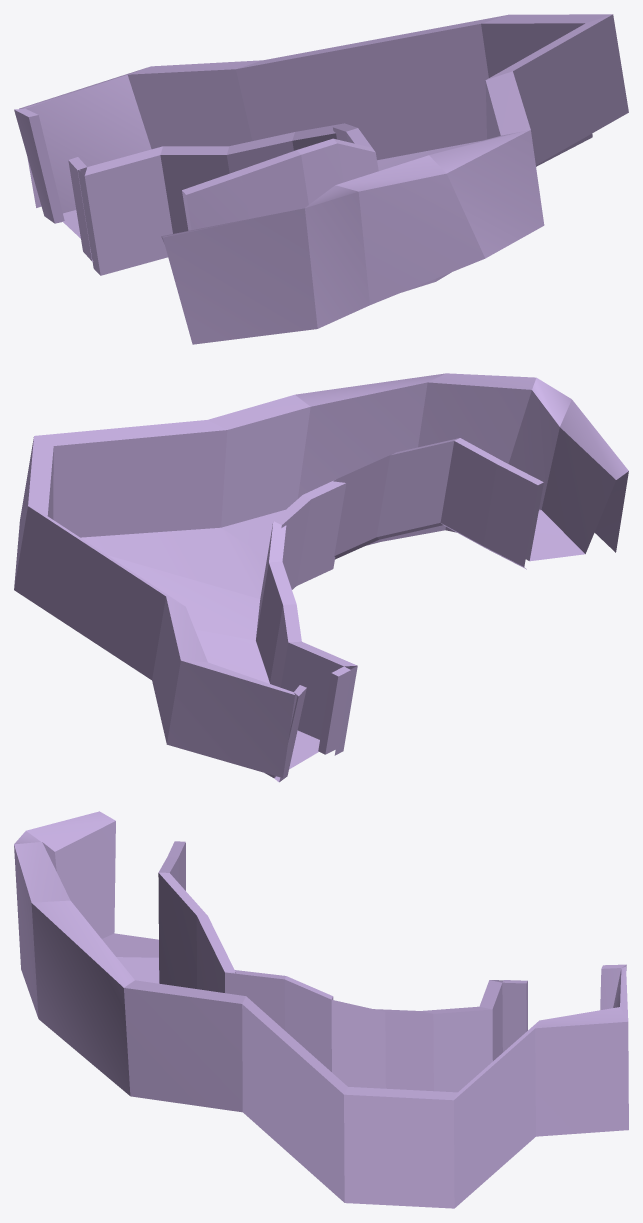
Rendered from InsideRamp.fbx.
The picture shows the model from 3 angles, top to bottom: view 1: azimuth 30°, elevation 25°; view 2: azimuth 150°, elevation 25°; view 3: azimuth 270°, elevation 25°; orthographic projection. The views are drawn at different scales.
Parts seen in each view (by area): view 1: OneWayRamp; view 2: OneWayRamp; view 3: OneWayRamp.
Part boxes in pixels (x1=…): OneWayRamp: x1=14, y1=14, x2=628, y2=344; OneWayRamp: x1=14, y1=373, x2=628, y2=782; OneWayRamp: x1=14, y1=811, x2=628, y2=1208.
Bounding box in the file's own units: 18.72 × 7.8 × 17.18.
